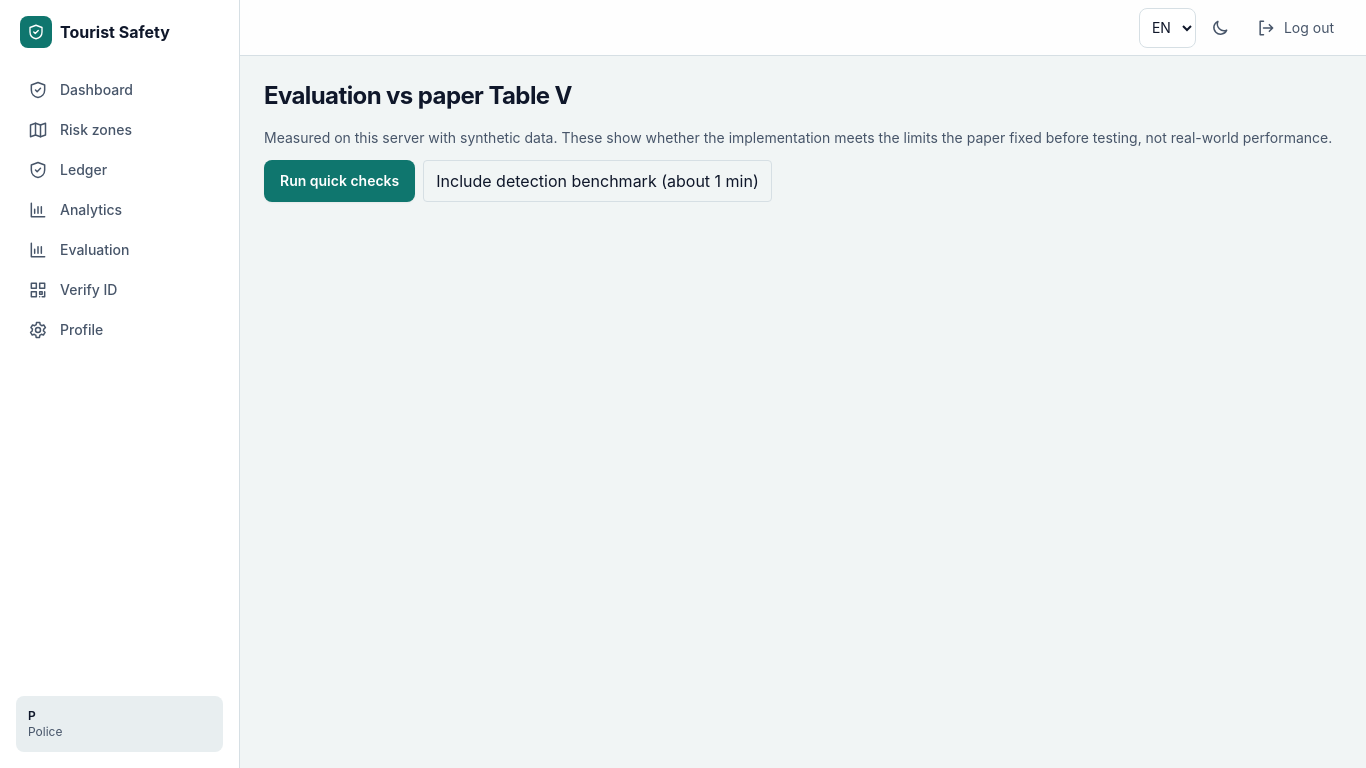
Test case: runs quick checks and shows met / not met / next stage rows
This screenshot has width=1366, height=768.
Click the button "Run quick checks" at coordinates (340, 181), box [264, 160, 415, 202]
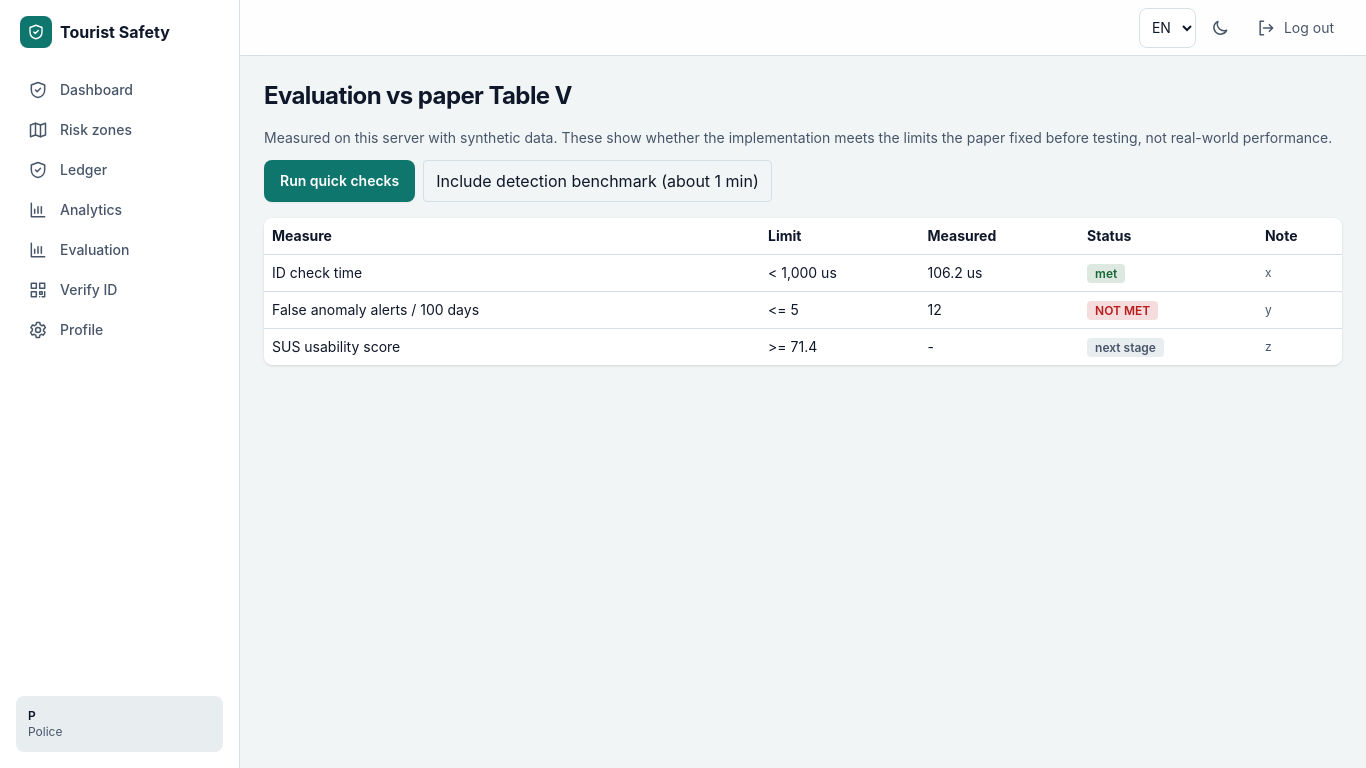
Result: the text "ID check time" is shown at [264, 254, 767, 292]
Result: the text "met" is shown at [1087, 264, 1125, 283]
Result: the text "NOT MET" is shown at [1087, 301, 1158, 320]
